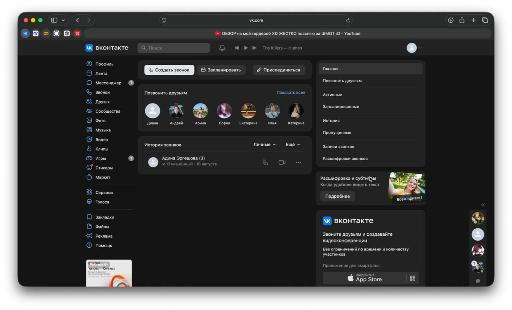vk: (19, 41, 495, 286)
